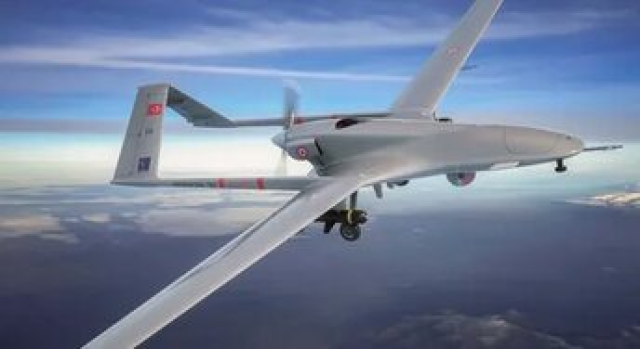military drone: (79, 0, 622, 349)
